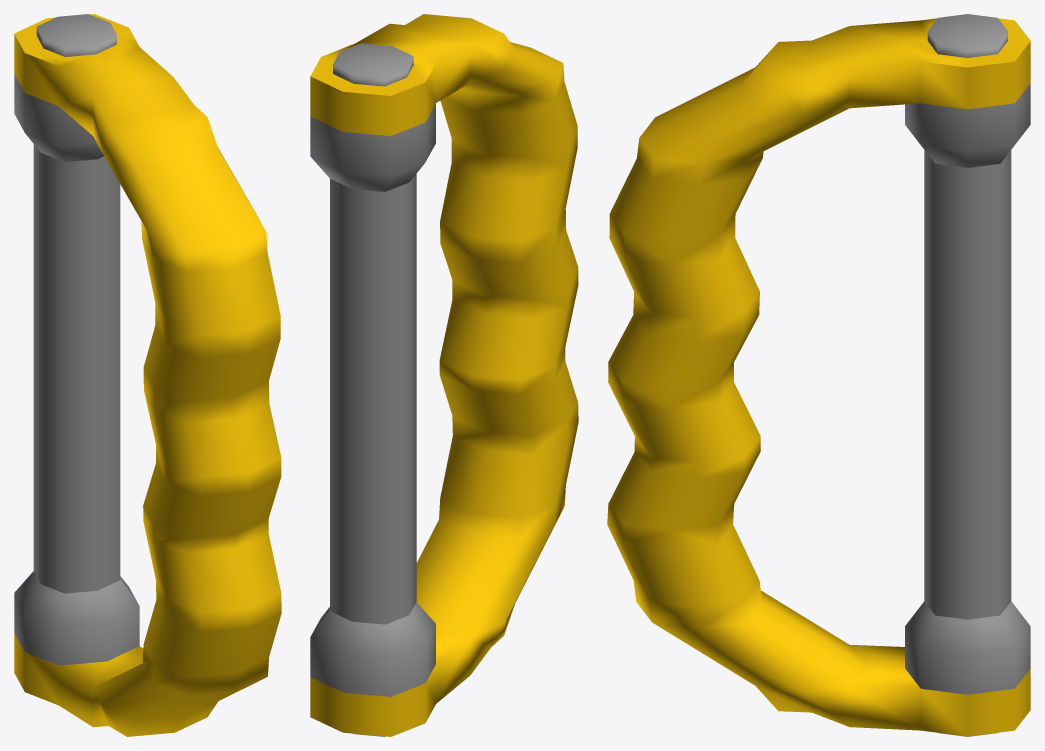
Rendered from BrassKnuckels.fbx.
3 views of the same model, side by side, from view 1: azimuth 30°, elevation 25°; view 2: azimuth 150°, elevation 25°; view 3: azimuth 270°, elevation 25° (orthographic). The views are drawn at different scales.
Parts seen in each view (by area): view 1: BrassKnuckles; view 2: BrassKnuckles; view 3: BrassKnuckles.
Boxes of the visible parts, box(x1,y1,x2,y2) form: BrassKnuckles: box(14, 14, 281, 736); BrassKnuckles: box(310, 14, 578, 736); BrassKnuckles: box(607, 14, 1030, 736).
Bounding box in the file's own units: 0.6568 × 3.96 × 2.21.
1 material, 1 textured.
